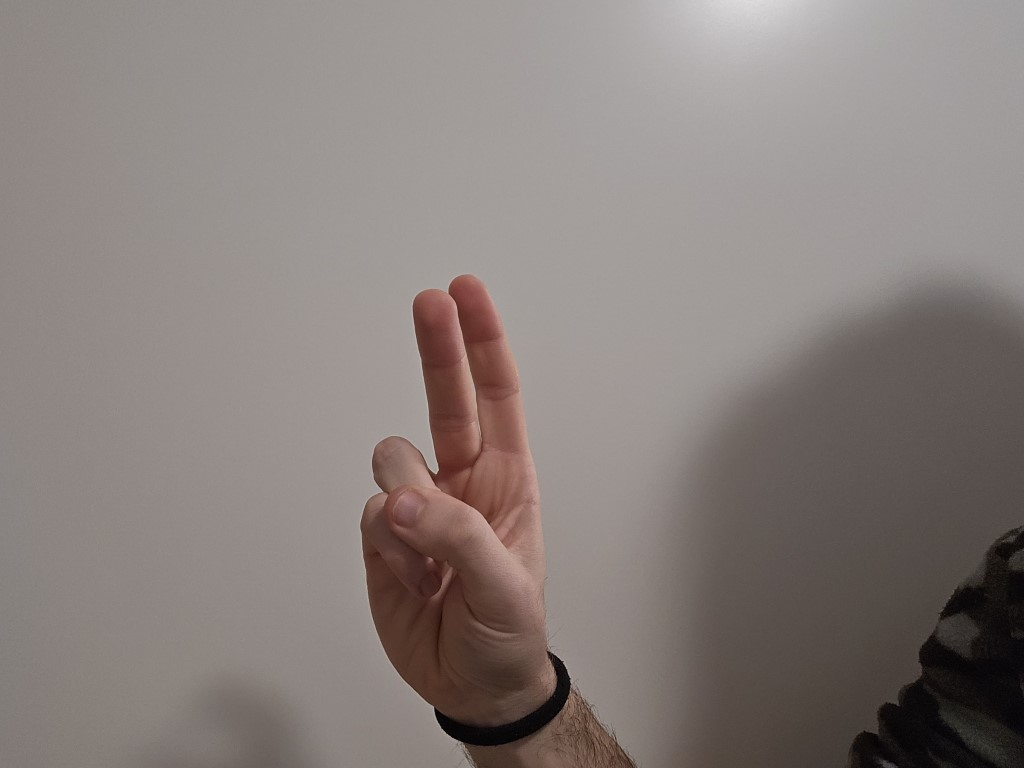r: (329, 271, 585, 683)
